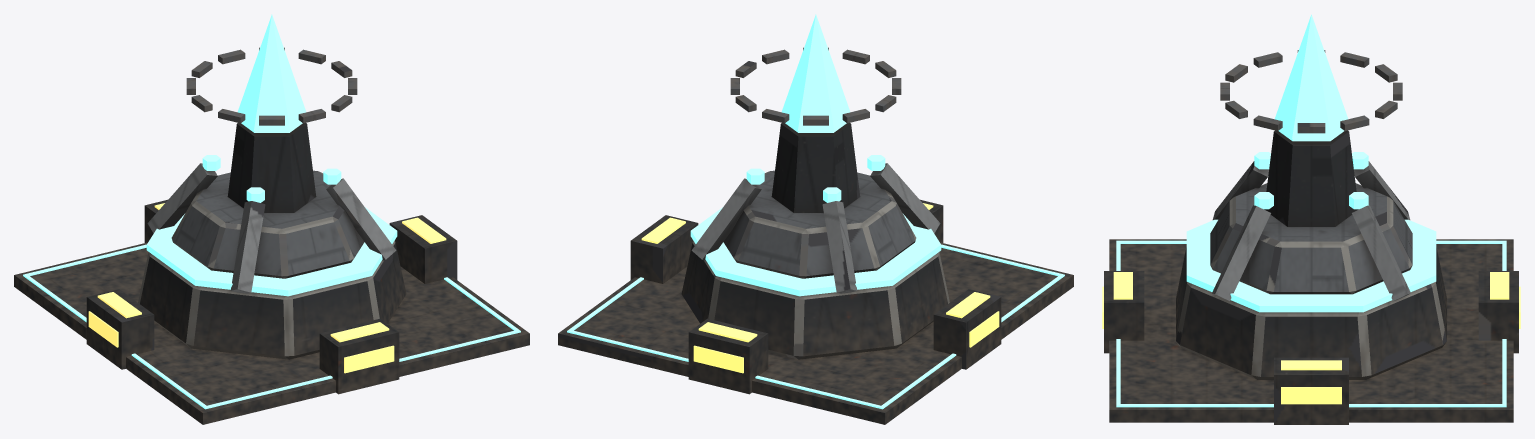
Rendered from nucleo.glb.
3 renders of one model, left to right at view 1: azimuth 30°, elevation 25°; view 2: azimuth 150°, elevation 25°; view 3: azimuth 270°, elevation 25°, orthographic. The views are drawn at different scales.
Visible parts, largest first — view 1: nucleo_corpo, nucleo_cristal, nucleo_antena; view 2: nucleo_corpo, nucleo_cristal, nucleo_antena; view 3: nucleo_corpo, nucleo_cristal, nucleo_antena.
Part boxes in pixels (left/top/right/bottom): nucleo_corpo: left=14, top=123, right=529, bottom=424; nucleo_cristal: left=237, top=14, right=306, bottom=132; nucleo_antena: left=186, top=47, right=357, bottom=125; nucleo_corpo: left=558, top=123, right=1073, bottom=424; nucleo_cristal: left=781, top=14, right=850, bottom=132; nucleo_antena: left=730, top=47, right=901, bottom=125; nucleo_corpo: left=1102, top=130, right=1520, bottom=424; nucleo_cristal: left=1274, top=14, right=1348, bottom=141; nucleo_antena: left=1220, top=50, right=1402, bottom=133.
Bounding box in the file's own units: 3 × 2.56 × 3.
Materials: 3 (1 with a texture image).
